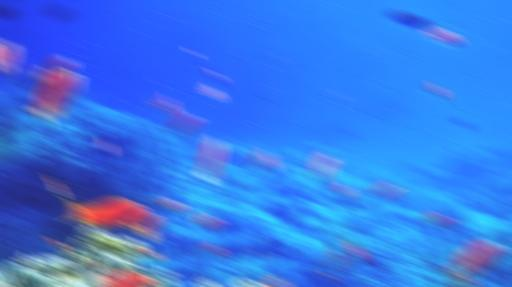Fish: (27, 70, 79, 131), (442, 242, 501, 283), (62, 198, 143, 227), (197, 137, 222, 183), (306, 153, 335, 182), (167, 113, 200, 138), (99, 271, 152, 286), (20, 67, 51, 92), (43, 56, 74, 81), (124, 211, 159, 233), (390, 10, 429, 28), (0, 40, 16, 82), (425, 28, 460, 45), (247, 149, 272, 170), (44, 2, 73, 20), (42, 174, 65, 195), (372, 182, 401, 198), (151, 95, 176, 113), (203, 64, 224, 85), (325, 252, 344, 269), (347, 241, 364, 260), (155, 198, 184, 209), (425, 214, 452, 225), (47, 237, 66, 252), (449, 275, 474, 286), (195, 216, 220, 227), (136, 226, 155, 239), (263, 148, 276, 167), (315, 270, 336, 281), (202, 86, 221, 98), (430, 83, 445, 97), (141, 248, 160, 259), (0, 4, 15, 17), (268, 277, 288, 286), (454, 118, 471, 128), (336, 184, 351, 195), (204, 245, 221, 254), (101, 139, 112, 152)
